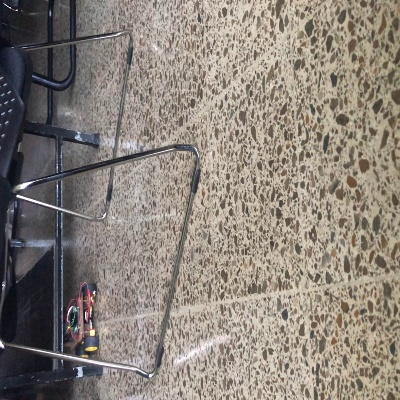Robot: (66, 283, 97, 358)
